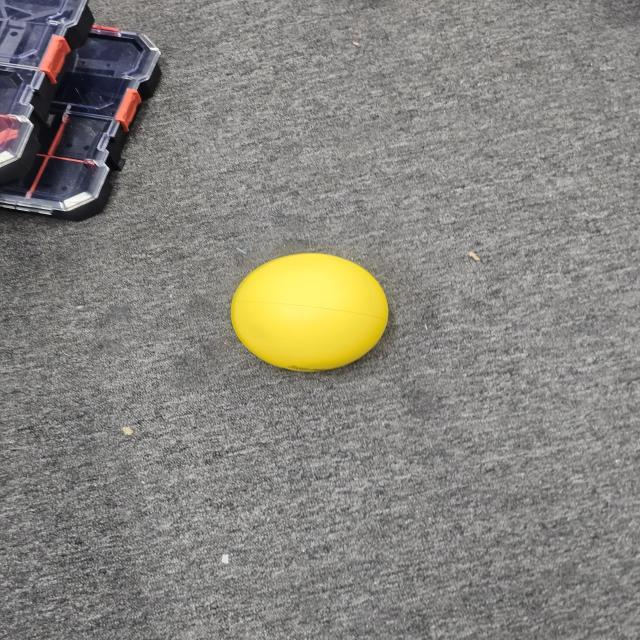Fuel: (225, 249, 398, 379)
